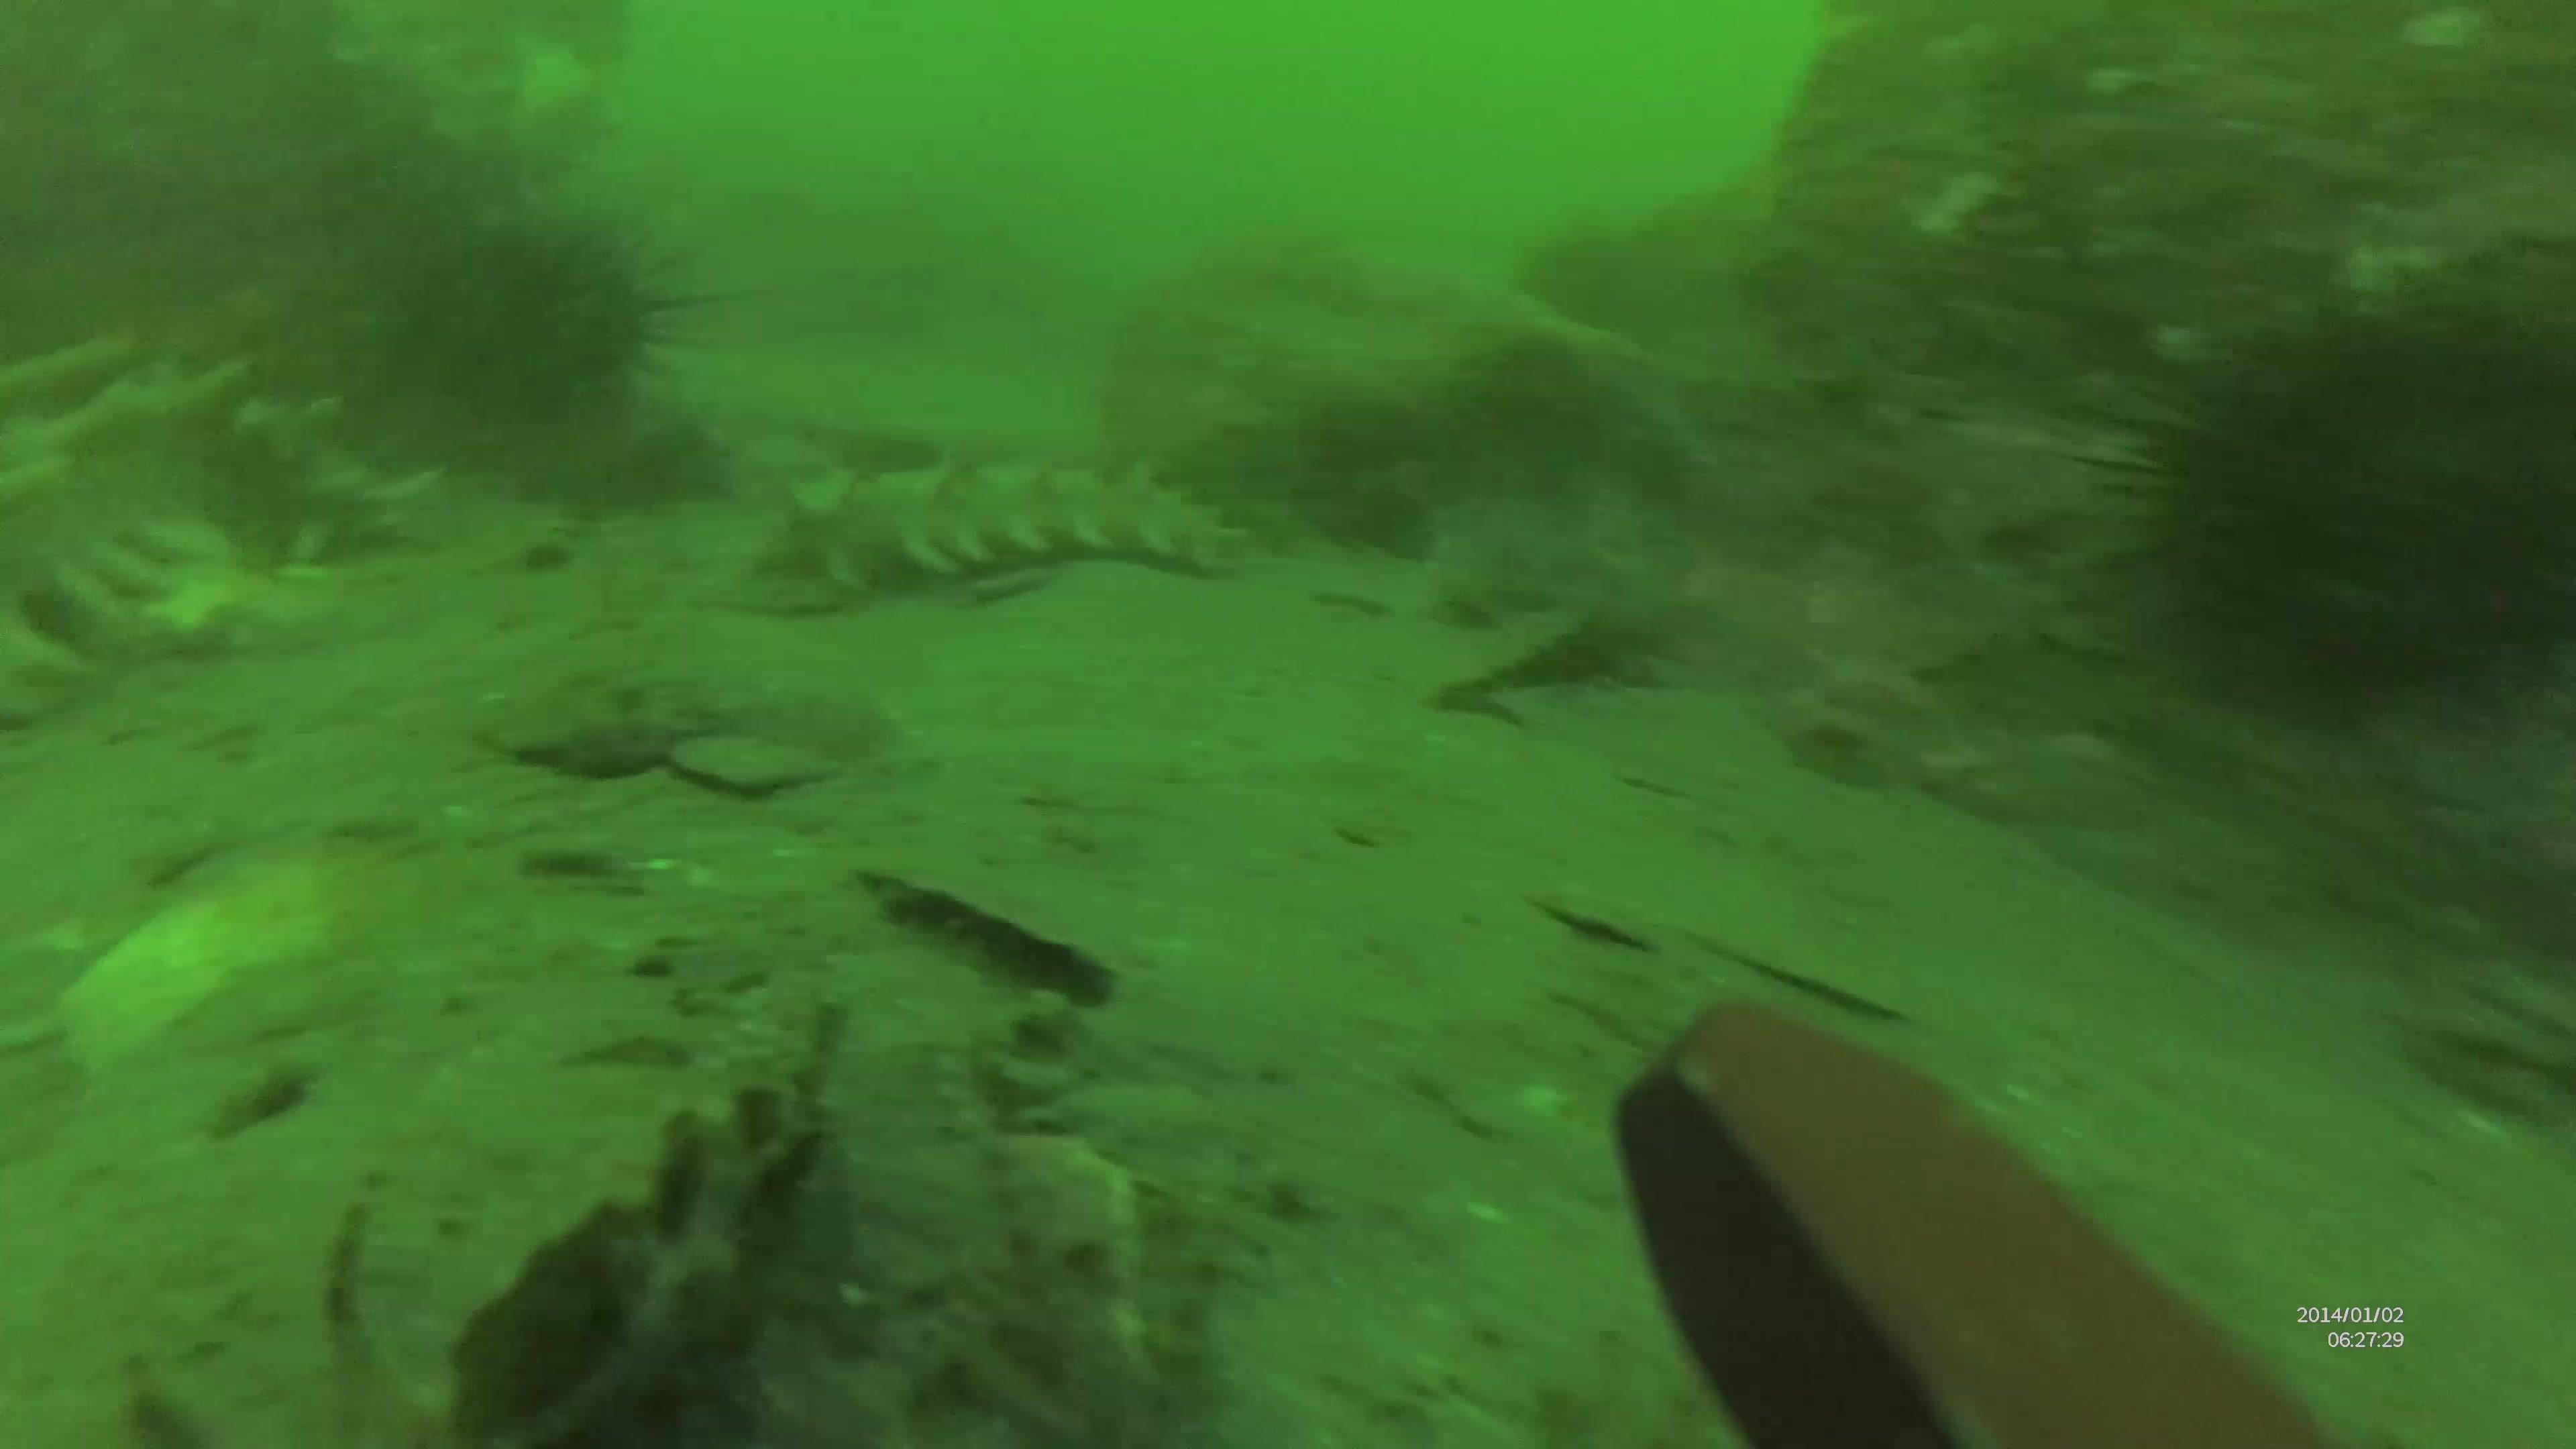echinus: (2095, 303, 2576, 743), (472, 214, 741, 395)
holothurian: (7, 333, 449, 729), (741, 451, 1237, 605)
